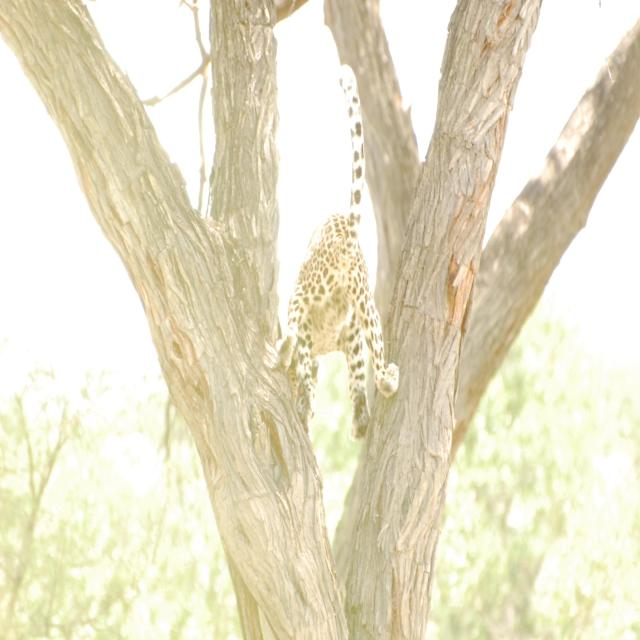Leopard: (275, 182, 386, 451)
